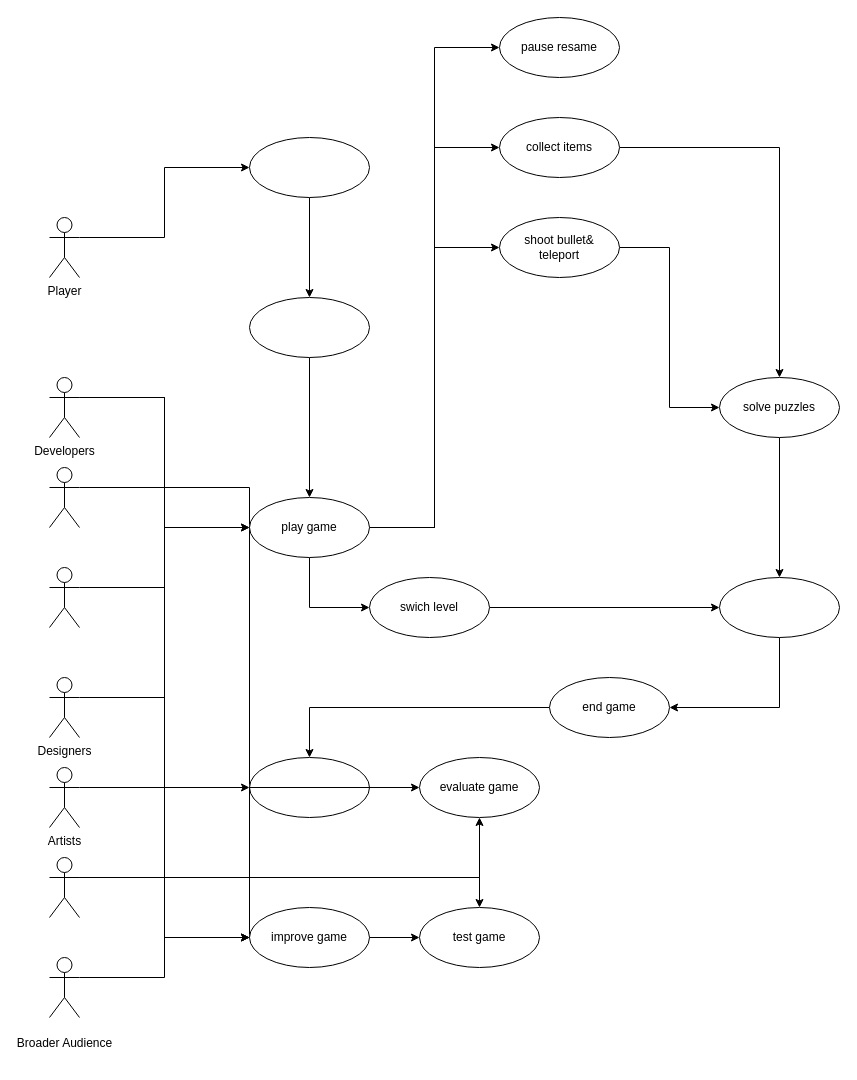
Some shapes in this 857 by 1080 pixel diagram are drawn without their labels. Each missing label, with the centre of its shape:
complete level: the point at 779,607
Manager: the point at 64,887
Peer & friends: the point at 64,597
provide feedback: the point at 309,787
start game: the point at 309,167
Testers: the point at 64,497
view guide: the point at 309,327
